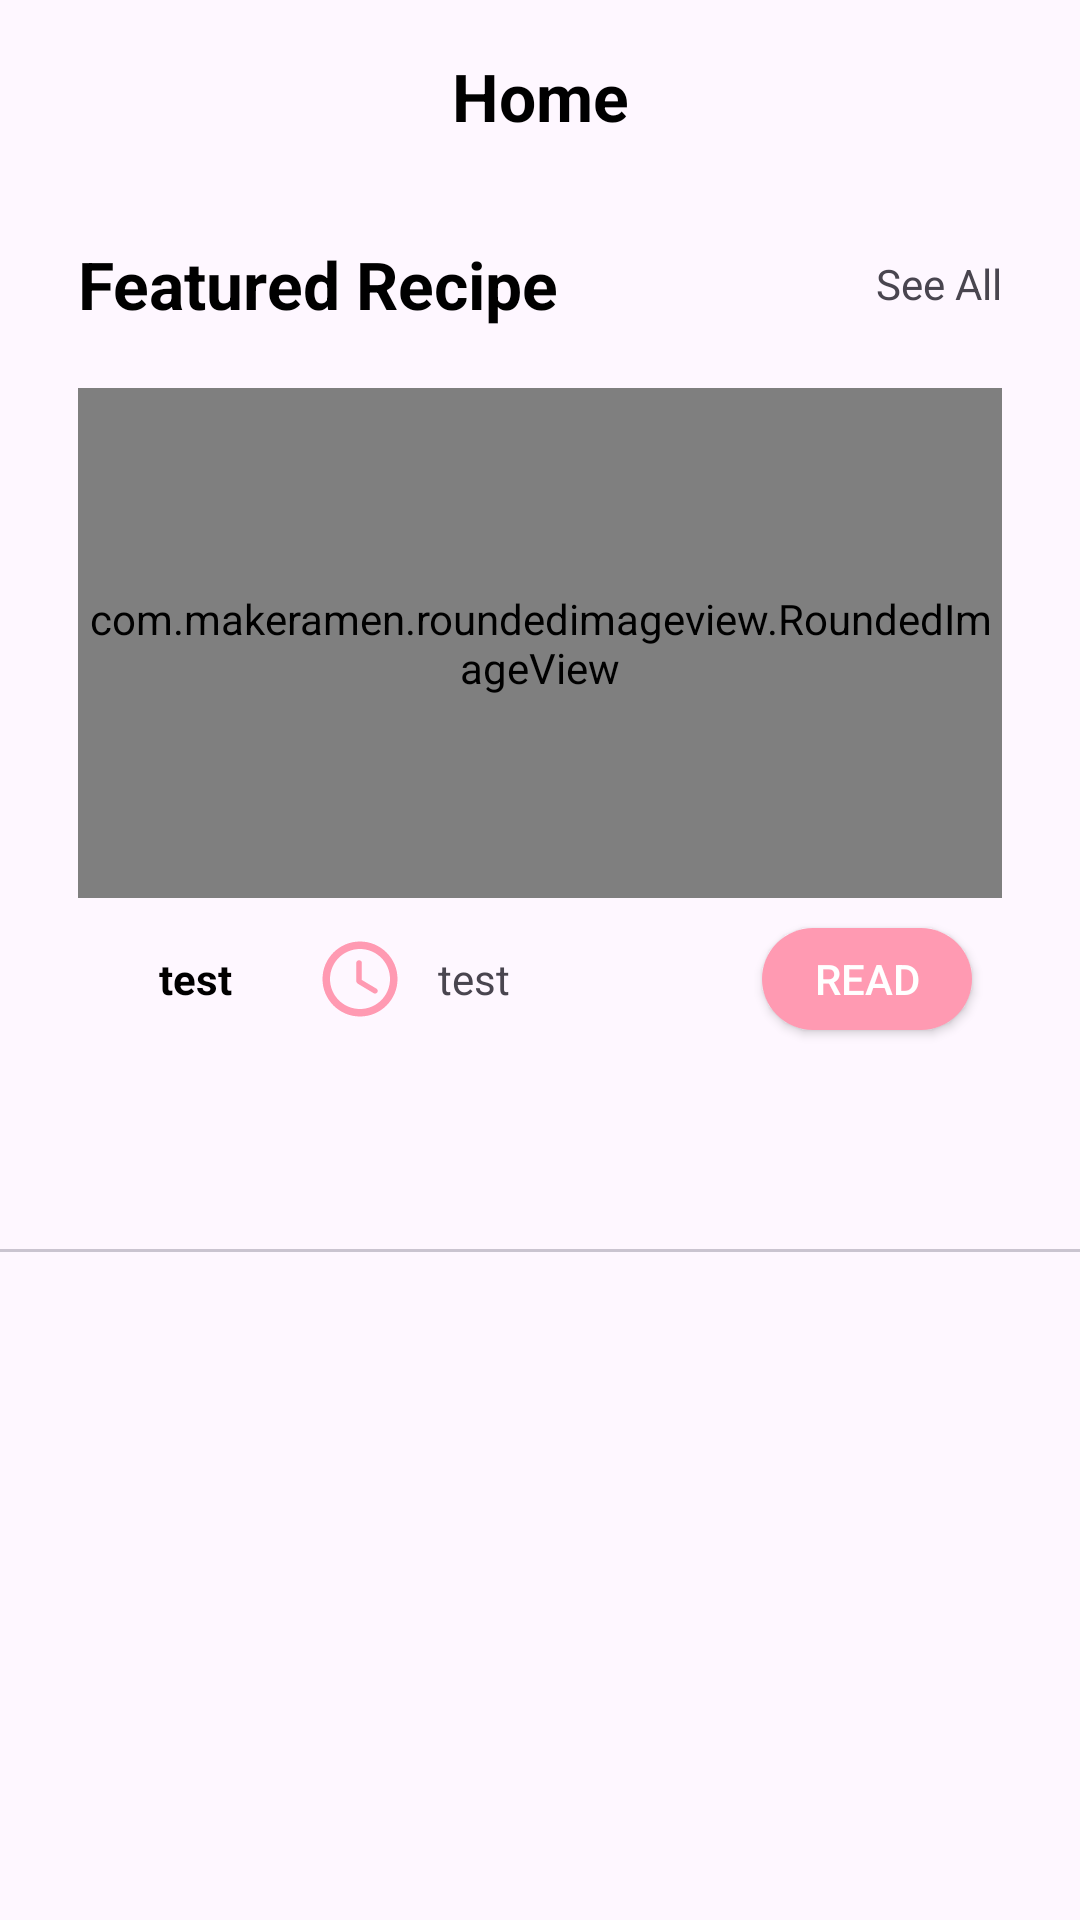

Where to tap for icons on this 1080×1920 app screen, as point (x, y):
time: point (360, 979)
